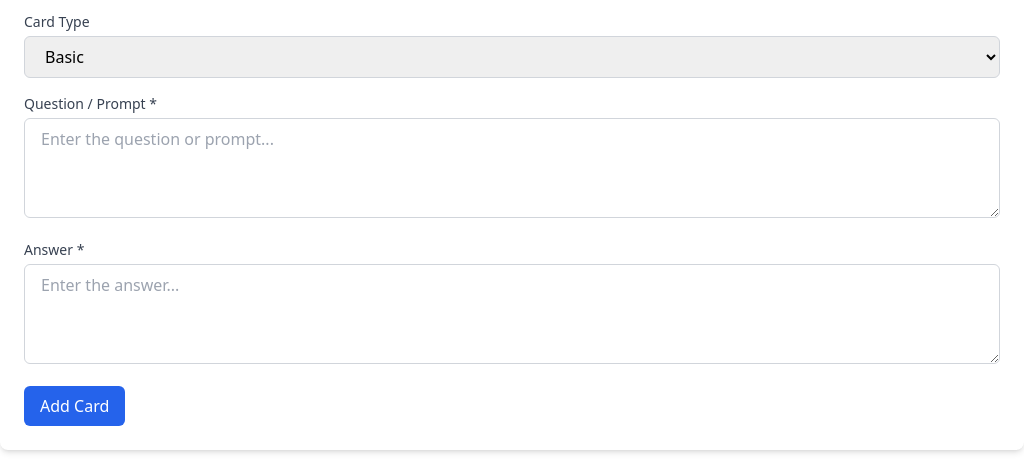
CreateCardForm › should disable form during submission
Step 1. Type "Question" into the text box labelled "Question / Prompt *" → point(512, 168), box x1=24 y1=118 x2=1000 y2=218
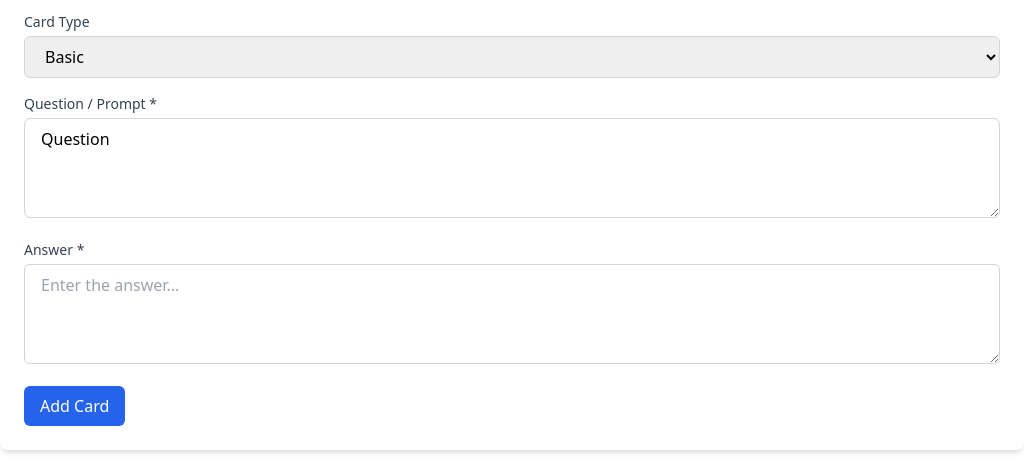
Step 2. Type "Answer" into the text box labelled "Answer *" → point(512, 314), box x1=24 y1=264 x2=1000 y2=364
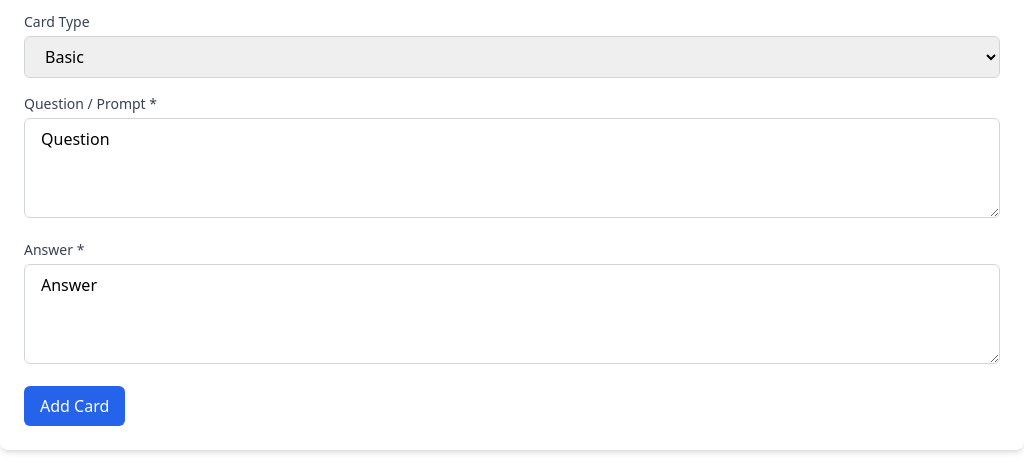
Step 3. Click the button "Add Card" → point(75, 406), box x1=24 y1=386 x2=125 y2=426
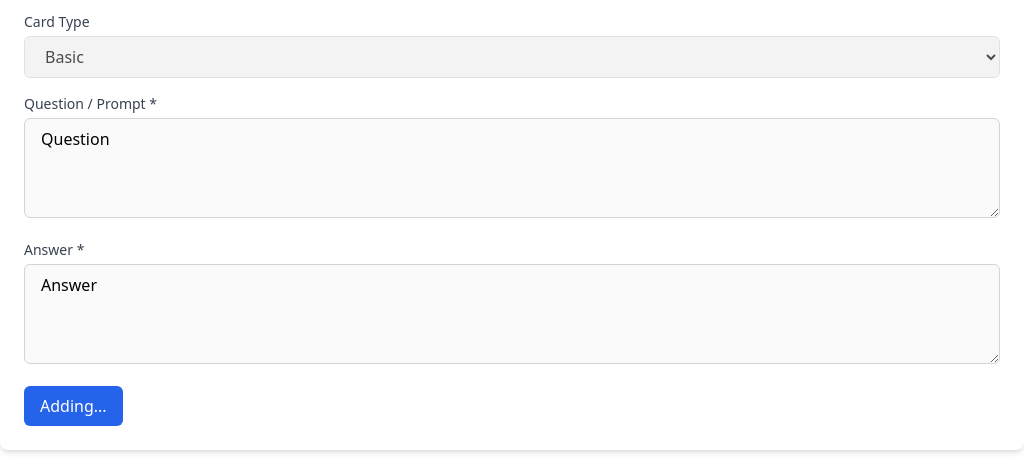
expect the button "Adding..." is disabled: met, box x1=24 y1=386 x2=123 y2=426
